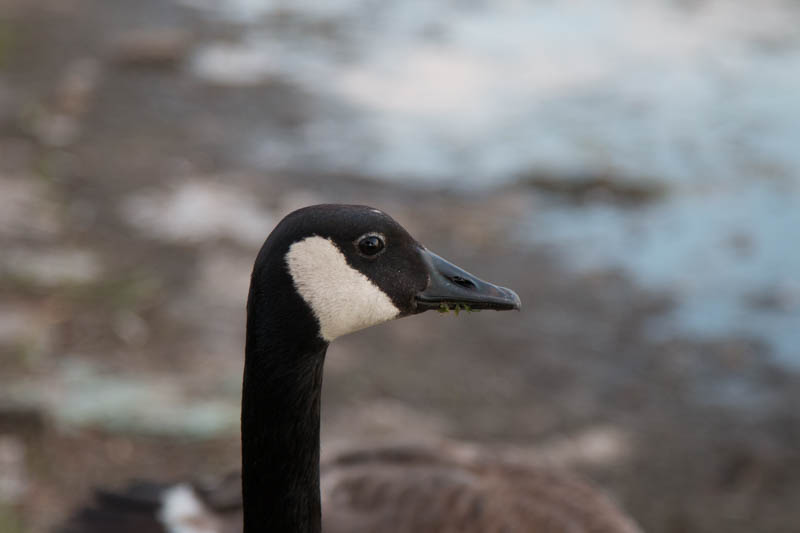goose-head: (246, 205, 524, 344)
